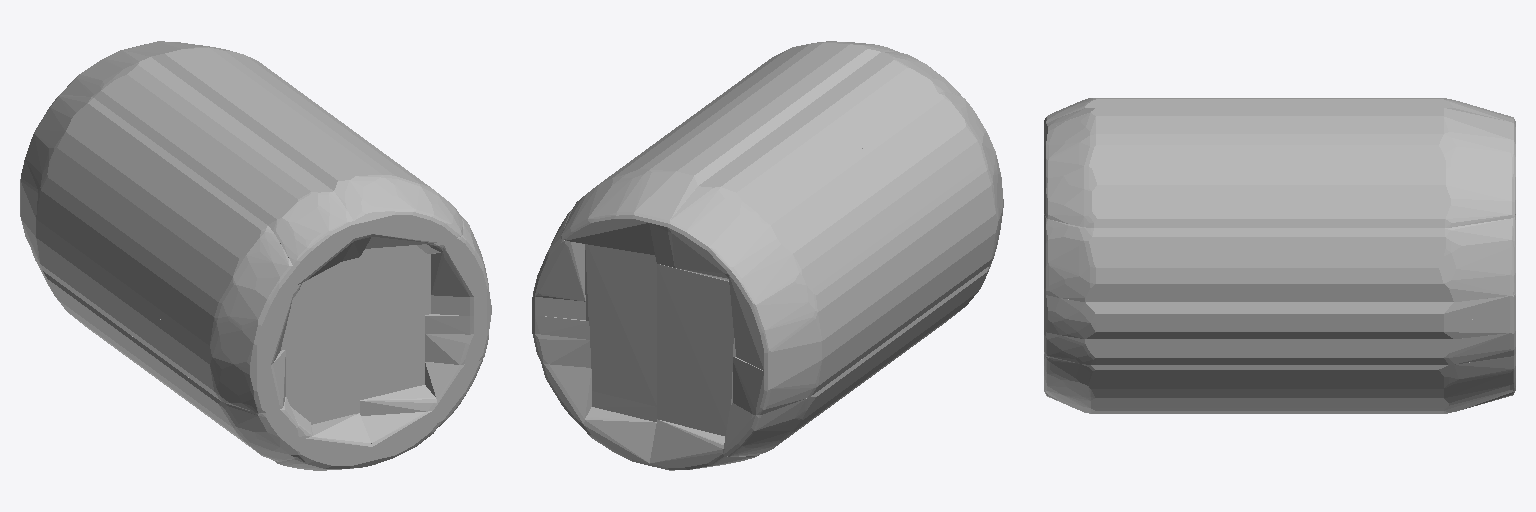
The robot description file, URDF, robot "root":
<robot name="root">
  <link name="link_coacd_convex_piece_0">
    <inertial>
      <origin xyz="0 0 0" rpy="0 0 0"/>
      <inertia ixx="4.62E-02" ixy="2.65E-04" ixz="-8.56E-03" iyy="2.66E-02" iyz="5.58E-04" izz="3.02E-02"/>
    </inertial>
    <visual>
      <origin xyz="0 0 0" rpy="0 0 0"/>
      <geometry>
        <mesh filename="coacd_convex_piece_0.obj" scale="1.0000E+00 1.0000E+00 1.0000E+00"/>
      </geometry>
      <material name="">
        <color rgba="7.50E-01 7.50E-01 7.50E-01 1"/>
      </material>
    </visual>
    <collision>
      <origin xyz="0 0 0" rpy="0 0 0"/>
      <geometry>
        <mesh filename="coacd_convex_piece_0.obj" scale="1.0000E+00 1.0000E+00 1.0000E+00"/>
      </geometry>
    </collision>
  </link>
  <link name="link_coacd_convex_piece_1">
    <inertial>
      <origin xyz="0 0 0" rpy="0 0 0"/>
      <inertia ixx="2.97E-02" ixy="-5.71E-04" ixz="8.37E-03" iyy="2.63E-02" iyz="2.71E-04" izz="4.57E-02"/>
    </inertial>
    <visual>
      <origin xyz="0 0 0" rpy="0 0 0"/>
      <geometry>
        <mesh filename="coacd_convex_piece_1.obj" scale="1.0000E+00 1.0000E+00 1.0000E+00"/>
      </geometry>
      <material name="">
        <color rgba="7.50E-01 7.50E-01 7.50E-01 1"/>
      </material>
    </visual>
    <collision>
      <origin xyz="0 0 0" rpy="0 0 0"/>
      <geometry>
        <mesh filename="coacd_convex_piece_1.obj" scale="1.0000E+00 1.0000E+00 1.0000E+00"/>
      </geometry>
    </collision>
  </link>
  <joint name="link_coacd_convex_piece_1_joint" type="fixed">
    <origin xyz="0 0 0" rpy="0 0 0"/>
    <parent link="link_coacd_convex_piece_0"/>
    <child link="link_coacd_convex_piece_1"/>
  </joint>
  <link name="link_coacd_convex_piece_2">
    <inertial>
      <origin xyz="0 0 0" rpy="0 0 0"/>
      <inertia ixx="2.36E-02" ixy="3.86E-04" ixz="8.38E-03" iyy="1.82E-02" iyz="-3.21E-04" izz="2.71E-02"/>
    </inertial>
    <visual>
      <origin xyz="0 0 0" rpy="0 0 0"/>
      <geometry>
        <mesh filename="coacd_convex_piece_2.obj" scale="1.0000E+00 1.0000E+00 1.0000E+00"/>
      </geometry>
      <material name="">
        <color rgba="7.50E-01 7.50E-01 7.50E-01 1"/>
      </material>
    </visual>
    <collision>
      <origin xyz="0 0 0" rpy="0 0 0"/>
      <geometry>
        <mesh filename="coacd_convex_piece_2.obj" scale="1.0000E+00 1.0000E+00 1.0000E+00"/>
      </geometry>
    </collision>
  </link>
  <joint name="link_coacd_convex_piece_2_joint" type="fixed">
    <origin xyz="0 0 0" rpy="0 0 0"/>
    <parent link="link_coacd_convex_piece_1"/>
    <child link="link_coacd_convex_piece_2"/>
  </joint>
  <link name="link_coacd_convex_piece_3">
    <inertial>
      <origin xyz="0 0 0" rpy="0 0 0"/>
      <inertia ixx="3.49E-02" ixy="1.19E-04" ixz="4.69E-03" iyy="1.85E-02" iyz="-4.12E-04" izz="2.01E-02"/>
    </inertial>
    <visual>
      <origin xyz="0 0 0" rpy="0 0 0"/>
      <geometry>
        <mesh filename="coacd_convex_piece_3.obj" scale="1.0000E+00 1.0000E+00 1.0000E+00"/>
      </geometry>
      <material name="">
        <color rgba="7.50E-01 7.50E-01 7.50E-01 1"/>
      </material>
    </visual>
    <collision>
      <origin xyz="0 0 0" rpy="0 0 0"/>
      <geometry>
        <mesh filename="coacd_convex_piece_3.obj" scale="1.0000E+00 1.0000E+00 1.0000E+00"/>
      </geometry>
    </collision>
  </link>
  <joint name="link_coacd_convex_piece_3_joint" type="fixed">
    <origin xyz="0 0 0" rpy="0 0 0"/>
    <parent link="link_coacd_convex_piece_2"/>
    <child link="link_coacd_convex_piece_3"/>
  </joint>
  <link name="link_coacd_convex_piece_4">
    <inertial>
      <origin xyz="0 0 0" rpy="0 0 0"/>
      <inertia ixx="3.99E-02" ixy="-1.57E-04" ixz="-5.91E-03" iyy="2.13E-02" iyz="-4.66E-04" izz="2.40E-02"/>
    </inertial>
    <visual>
      <origin xyz="0 0 0" rpy="0 0 0"/>
      <geometry>
        <mesh filename="coacd_convex_piece_4.obj" scale="1.0000E+00 1.0000E+00 1.0000E+00"/>
      </geometry>
      <material name="">
        <color rgba="7.50E-01 7.50E-01 7.50E-01 1"/>
      </material>
    </visual>
    <collision>
      <origin xyz="0 0 0" rpy="0 0 0"/>
      <geometry>
        <mesh filename="coacd_convex_piece_4.obj" scale="1.0000E+00 1.0000E+00 1.0000E+00"/>
      </geometry>
    </collision>
  </link>
  <joint name="link_coacd_convex_piece_4_joint" type="fixed">
    <origin xyz="0 0 0" rpy="0 0 0"/>
    <parent link="link_coacd_convex_piece_3"/>
    <child link="link_coacd_convex_piece_4"/>
  </joint>
  <link name="link_coacd_convex_piece_5">
    <inertial>
      <origin xyz="0 0 0" rpy="0 0 0"/>
      <inertia ixx="1.55E-02" ixy="-2.49E-04" ixz="-2.64E-03" iyy="1.38E-02" iyz="-4.44E-05" izz="2.78E-02"/>
    </inertial>
    <visual>
      <origin xyz="0 0 0" rpy="0 0 0"/>
      <geometry>
        <mesh filename="coacd_convex_piece_5.obj" scale="1.0000E+00 1.0000E+00 1.0000E+00"/>
      </geometry>
      <material name="">
        <color rgba="7.50E-01 7.50E-01 7.50E-01 1"/>
      </material>
    </visual>
    <collision>
      <origin xyz="0 0 0" rpy="0 0 0"/>
      <geometry>
        <mesh filename="coacd_convex_piece_5.obj" scale="1.0000E+00 1.0000E+00 1.0000E+00"/>
      </geometry>
    </collision>
  </link>
  <joint name="link_coacd_convex_piece_5_joint" type="fixed">
    <origin xyz="0 0 0" rpy="0 0 0"/>
    <parent link="link_coacd_convex_piece_4"/>
    <child link="link_coacd_convex_piece_5"/>
  </joint>
  <link name="link_coacd_convex_piece_6">
    <inertial>
      <origin xyz="0 0 0" rpy="0 0 0"/>
      <inertia ixx="1.82E-02" ixy="-4.05E-04" ixz="-6.83E-03" iyy="1.50E-02" iyz="-3.09E-04" izz="2.23E-02"/>
    </inertial>
    <visual>
      <origin xyz="0 0 0" rpy="0 0 0"/>
      <geometry>
        <mesh filename="coacd_convex_piece_6.obj" scale="1.0000E+00 1.0000E+00 1.0000E+00"/>
      </geometry>
      <material name="">
        <color rgba="7.50E-01 7.50E-01 7.50E-01 1"/>
      </material>
    </visual>
    <collision>
      <origin xyz="0 0 0" rpy="0 0 0"/>
      <geometry>
        <mesh filename="coacd_convex_piece_6.obj" scale="1.0000E+00 1.0000E+00 1.0000E+00"/>
      </geometry>
    </collision>
  </link>
  <joint name="link_coacd_convex_piece_6_joint" type="fixed">
    <origin xyz="0 0 0" rpy="0 0 0"/>
    <parent link="link_coacd_convex_piece_5"/>
    <child link="link_coacd_convex_piece_6"/>
  </joint>
  <link name="link_coacd_convex_piece_7">
    <inertial>
      <origin xyz="0 0 0" rpy="0 0 0"/>
      <inertia ixx="2.21E-02" ixy="3.49E-04" ixz="-6.59E-03" iyy="1.82E-02" iyz="1.61E-04" izz="3.33E-02"/>
    </inertial>
    <visual>
      <origin xyz="0 0 0" rpy="0 0 0"/>
      <geometry>
        <mesh filename="coacd_convex_piece_7.obj" scale="1.0000E+00 1.0000E+00 1.0000E+00"/>
      </geometry>
      <material name="">
        <color rgba="7.50E-01 7.50E-01 7.50E-01 1"/>
      </material>
    </visual>
    <collision>
      <origin xyz="0 0 0" rpy="0 0 0"/>
      <geometry>
        <mesh filename="coacd_convex_piece_7.obj" scale="1.0000E+00 1.0000E+00 1.0000E+00"/>
      </geometry>
    </collision>
  </link>
  <joint name="link_coacd_convex_piece_7_joint" type="fixed">
    <origin xyz="0 0 0" rpy="0 0 0"/>
    <parent link="link_coacd_convex_piece_6"/>
    <child link="link_coacd_convex_piece_7"/>
  </joint>
  <link name="link_coacd_convex_piece_8">
    <inertial>
      <origin xyz="0 0 0" rpy="0 0 0"/>
      <inertia ixx="6.35E-03" ixy="8.67E-05" ixz="-4.53E-04" iyy="5.63E-03" iyz="4.34E-06" izz="1.19E-02"/>
    </inertial>
    <visual>
      <origin xyz="0 0 0" rpy="0 0 0"/>
      <geometry>
        <mesh filename="coacd_convex_piece_8.obj" scale="1.0000E+00 1.0000E+00 1.0000E+00"/>
      </geometry>
      <material name="">
        <color rgba="7.50E-01 7.50E-01 7.50E-01 1"/>
      </material>
    </visual>
    <collision>
      <origin xyz="0 0 0" rpy="0 0 0"/>
      <geometry>
        <mesh filename="coacd_convex_piece_8.obj" scale="1.0000E+00 1.0000E+00 1.0000E+00"/>
      </geometry>
    </collision>
  </link>
  <joint name="link_coacd_convex_piece_8_joint" type="fixed">
    <origin xyz="0 0 0" rpy="0 0 0"/>
    <parent link="link_coacd_convex_piece_7"/>
    <child link="link_coacd_convex_piece_8"/>
  </joint>
  <link name="link_coacd_convex_piece_9">
    <inertial>
      <origin xyz="0 0 0" rpy="0 0 0"/>
      <inertia ixx="5.75E-02" ixy="-7.02E-04" ixz="-1.22E-03" iyy="1.47E-02" iyz="-1.50E-04" izz="5.70E-02"/>
    </inertial>
    <visual>
      <origin xyz="0 0 0" rpy="0 0 0"/>
      <geometry>
        <mesh filename="coacd_convex_piece_9.obj" scale="1.0000E+00 1.0000E+00 1.0000E+00"/>
      </geometry>
      <material name="">
        <color rgba="7.50E-01 7.50E-01 7.50E-01 1"/>
      </material>
    </visual>
    <collision>
      <origin xyz="0 0 0" rpy="0 0 0"/>
      <geometry>
        <mesh filename="coacd_convex_piece_9.obj" scale="1.0000E+00 1.0000E+00 1.0000E+00"/>
      </geometry>
    </collision>
  </link>
  <joint name="link_coacd_convex_piece_9_joint" type="fixed">
    <origin xyz="0 0 0" rpy="0 0 0"/>
    <parent link="link_coacd_convex_piece_8"/>
    <child link="link_coacd_convex_piece_9"/>
  </joint>
  <link name="link_coacd_convex_piece_10">
    <inertial>
      <origin xyz="0 0 0" rpy="0 0 0"/>
      <inertia ixx="1.78E-04" ixy="5.28E-05" ixz="-2.00E-05" iyy="4.05E-05" iyz="5.89E-05" izz="1.74E-04"/>
    </inertial>
    <visual>
      <origin xyz="0 0 0" rpy="0 0 0"/>
      <geometry>
        <mesh filename="coacd_convex_piece_10.obj" scale="1.0000E+00 1.0000E+00 1.0000E+00"/>
      </geometry>
      <material name="">
        <color rgba="7.50E-01 7.50E-01 7.50E-01 1"/>
      </material>
    </visual>
    <collision>
      <origin xyz="0 0 0" rpy="0 0 0"/>
      <geometry>
        <mesh filename="coacd_convex_piece_10.obj" scale="1.0000E+00 1.0000E+00 1.0000E+00"/>
      </geometry>
    </collision>
  </link>
  <joint name="link_coacd_convex_piece_10_joint" type="fixed">
    <origin xyz="0 0 0" rpy="0 0 0"/>
    <parent link="link_coacd_convex_piece_9"/>
    <child link="link_coacd_convex_piece_10"/>
  </joint>
  <link name="link_coacd_convex_piece_11">
    <inertial>
      <origin xyz="0 0 0" rpy="0 0 0"/>
      <inertia ixx="1.23E-02" ixy="-4.27E-06" ixz="4.61E-04" iyy="5.79E-03" iyz="8.83E-05" izz="6.58E-03"/>
    </inertial>
    <visual>
      <origin xyz="0 0 0" rpy="0 0 0"/>
      <geometry>
        <mesh filename="coacd_convex_piece_11.obj" scale="1.0000E+00 1.0000E+00 1.0000E+00"/>
      </geometry>
      <material name="">
        <color rgba="7.50E-01 7.50E-01 7.50E-01 1"/>
      </material>
    </visual>
    <collision>
      <origin xyz="0 0 0" rpy="0 0 0"/>
      <geometry>
        <mesh filename="coacd_convex_piece_11.obj" scale="1.0000E+00 1.0000E+00 1.0000E+00"/>
      </geometry>
    </collision>
  </link>
  <joint name="link_coacd_convex_piece_11_joint" type="fixed">
    <origin xyz="0 0 0" rpy="0 0 0"/>
    <parent link="link_coacd_convex_piece_10"/>
    <child link="link_coacd_convex_piece_11"/>
  </joint>
  <link name="link_coacd_convex_piece_12">
    <inertial>
      <origin xyz="0 0 0" rpy="0 0 0"/>
      <inertia ixx="3.39E-02" ixy="-1.68E-04" ixz="6.77E-03" iyy="1.86E-02" iyz="3.61E-04" izz="2.27E-02"/>
    </inertial>
    <visual>
      <origin xyz="0 0 0" rpy="0 0 0"/>
      <geometry>
        <mesh filename="coacd_convex_piece_12.obj" scale="1.0000E+00 1.0000E+00 1.0000E+00"/>
      </geometry>
      <material name="">
        <color rgba="7.50E-01 7.50E-01 7.50E-01 1"/>
      </material>
    </visual>
    <collision>
      <origin xyz="0 0 0" rpy="0 0 0"/>
      <geometry>
        <mesh filename="coacd_convex_piece_12.obj" scale="1.0000E+00 1.0000E+00 1.0000E+00"/>
      </geometry>
    </collision>
  </link>
  <joint name="link_coacd_convex_piece_12_joint" type="fixed">
    <origin xyz="0 0 0" rpy="0 0 0"/>
    <parent link="link_coacd_convex_piece_11"/>
    <child link="link_coacd_convex_piece_12"/>
  </joint>
  <link name="link_coacd_convex_piece_13">
    <inertial>
      <origin xyz="0 0 0" rpy="0 0 0"/>
      <inertia ixx="6.64E-02" ixy="9.11E-04" ixz="-3.84E-04" iyy="1.90E-02" iyz="7.42E-05" izz="6.73E-02"/>
    </inertial>
    <visual>
      <origin xyz="0 0 0" rpy="0 0 0"/>
      <geometry>
        <mesh filename="coacd_convex_piece_13.obj" scale="1.0000E+00 1.0000E+00 1.0000E+00"/>
      </geometry>
      <material name="">
        <color rgba="7.50E-01 7.50E-01 7.50E-01 1"/>
      </material>
    </visual>
    <collision>
      <origin xyz="0 0 0" rpy="0 0 0"/>
      <geometry>
        <mesh filename="coacd_convex_piece_13.obj" scale="1.0000E+00 1.0000E+00 1.0000E+00"/>
      </geometry>
    </collision>
  </link>
  <joint name="link_coacd_convex_piece_13_joint" type="fixed">
    <origin xyz="0 0 0" rpy="0 0 0"/>
    <parent link="link_coacd_convex_piece_12"/>
    <child link="link_coacd_convex_piece_13"/>
  </joint>
  <link name="link_coacd_convex_piece_14">
    <inertial>
      <origin xyz="0 0 0" rpy="0 0 0"/>
      <inertia ixx="1.45E-04" ixy="-5.02E-05" ixz="1.70E-05" iyy="3.44E-05" iyz="4.42E-05" izz="1.50E-04"/>
    </inertial>
    <visual>
      <origin xyz="0 0 0" rpy="0 0 0"/>
      <geometry>
        <mesh filename="coacd_convex_piece_14.obj" scale="1.0000E+00 1.0000E+00 1.0000E+00"/>
      </geometry>
      <material name="">
        <color rgba="7.50E-01 7.50E-01 7.50E-01 1"/>
      </material>
    </visual>
    <collision>
      <origin xyz="0 0 0" rpy="0 0 0"/>
      <geometry>
        <mesh filename="coacd_convex_piece_14.obj" scale="1.0000E+00 1.0000E+00 1.0000E+00"/>
      </geometry>
    </collision>
  </link>
  <joint name="link_coacd_convex_piece_14_joint" type="fixed">
    <origin xyz="0 0 0" rpy="0 0 0"/>
    <parent link="link_coacd_convex_piece_13"/>
    <child link="link_coacd_convex_piece_14"/>
  </joint>
  <link name="link_coacd_convex_piece_15">
    <inertial>
      <origin xyz="0 0 0" rpy="0 0 0"/>
      <inertia ixx="6.86E-03" ixy="7.80E-05" ixz="4.83E-04" iyy="5.77E-03" iyz="-3.39E-06" izz="1.25E-02"/>
    </inertial>
    <visual>
      <origin xyz="0 0 0" rpy="0 0 0"/>
      <geometry>
        <mesh filename="coacd_convex_piece_15.obj" scale="1.0000E+00 1.0000E+00 1.0000E+00"/>
      </geometry>
      <material name="">
        <color rgba="7.50E-01 7.50E-01 7.50E-01 1"/>
      </material>
    </visual>
    <collision>
      <origin xyz="0 0 0" rpy="0 0 0"/>
      <geometry>
        <mesh filename="coacd_convex_piece_15.obj" scale="1.0000E+00 1.0000E+00 1.0000E+00"/>
      </geometry>
    </collision>
  </link>
  <joint name="link_coacd_convex_piece_15_joint" type="fixed">
    <origin xyz="0 0 0" rpy="0 0 0"/>
    <parent link="link_coacd_convex_piece_14"/>
    <child link="link_coacd_convex_piece_15"/>
  </joint>
  <link name="link_coacd_convex_piece_16">
    <inertial>
      <origin xyz="0 0 0" rpy="0 0 0"/>
      <inertia ixx="1.06E-02" ixy="1.22E-04" ixz="2.38E-03" iyy="8.65E-03" iyz="-2.86E-05" izz="1.77E-02"/>
    </inertial>
    <visual>
      <origin xyz="0 0 0" rpy="0 0 0"/>
      <geometry>
        <mesh filename="coacd_convex_piece_16.obj" scale="1.0000E+00 1.0000E+00 1.0000E+00"/>
      </geometry>
      <material name="">
        <color rgba="7.50E-01 7.50E-01 7.50E-01 1"/>
      </material>
    </visual>
    <collision>
      <origin xyz="0 0 0" rpy="0 0 0"/>
      <geometry>
        <mesh filename="coacd_convex_piece_16.obj" scale="1.0000E+00 1.0000E+00 1.0000E+00"/>
      </geometry>
    </collision>
  </link>
  <joint name="link_coacd_convex_piece_16_joint" type="fixed">
    <origin xyz="0 0 0" rpy="0 0 0"/>
    <parent link="link_coacd_convex_piece_15"/>
    <child link="link_coacd_convex_piece_16"/>
  </joint>
  <link name="link_coacd_convex_piece_17">
    <inertial>
      <origin xyz="0 0 0" rpy="0 0 0"/>
      <inertia ixx="2.27E-04" ixy="-6.95E-05" ixz="-2.58E-05" iyy="5.21E-05" iyz="-7.40E-05" izz="2.24E-04"/>
    </inertial>
    <visual>
      <origin xyz="0 0 0" rpy="0 0 0"/>
      <geometry>
        <mesh filename="coacd_convex_piece_17.obj" scale="1.0000E+00 1.0000E+00 1.0000E+00"/>
      </geometry>
      <material name="">
        <color rgba="7.50E-01 7.50E-01 7.50E-01 1"/>
      </material>
    </visual>
    <collision>
      <origin xyz="0 0 0" rpy="0 0 0"/>
      <geometry>
        <mesh filename="coacd_convex_piece_17.obj" scale="1.0000E+00 1.0000E+00 1.0000E+00"/>
      </geometry>
    </collision>
  </link>
  <joint name="link_coacd_convex_piece_17_joint" type="fixed">
    <origin xyz="0 0 0" rpy="0 0 0"/>
    <parent link="link_coacd_convex_piece_16"/>
    <child link="link_coacd_convex_piece_17"/>
  </joint>
  <link name="link_coacd_convex_piece_18">
    <inertial>
      <origin xyz="0 0 0" rpy="0 0 0"/>
      <inertia ixx="7.57E-03" ixy="2.99E-05" ixz="1.04E-03" iyy="2.96E-03" iyz="-2.26E-05" izz="5.84E-03"/>
    </inertial>
    <visual>
      <origin xyz="0 0 0" rpy="0 0 0"/>
      <geometry>
        <mesh filename="coacd_convex_piece_18.obj" scale="1.0000E+00 1.0000E+00 1.0000E+00"/>
      </geometry>
      <material name="">
        <color rgba="7.50E-01 7.50E-01 7.50E-01 1"/>
      </material>
    </visual>
    <collision>
      <origin xyz="0 0 0" rpy="0 0 0"/>
      <geometry>
        <mesh filename="coacd_convex_piece_18.obj" scale="1.0000E+00 1.0000E+00 1.0000E+00"/>
      </geometry>
    </collision>
  </link>
  <joint name="link_coacd_convex_piece_18_joint" type="fixed">
    <origin xyz="0 0 0" rpy="0 0 0"/>
    <parent link="link_coacd_convex_piece_17"/>
    <child link="link_coacd_convex_piece_18"/>
  </joint>
</robot>

--- Facts derived from the render (not from the file) ---
Views: 3 orthographic renders of the robot side by side, from view 1: azimuth 30°, elevation 25°; view 2: azimuth 150°, elevation 25°; view 3: azimuth 270°, elevation 25°.
Robot: root — 19 links, 18 joints (18 fixed); root link link_coacd_convex_piece_0; default pose: all joints at 0.
Links seen in each view (by area): view 1: link_coacd_convex_piece_1, link_coacd_convex_piece_12, link_coacd_convex_piece_0, link_coacd_convex_piece_13, link_coacd_convex_piece_5, link_coacd_convex_piece_9, link_coacd_convex_piece_6, link_coacd_convex_piece_11, link_coacd_convex_piece_4, link_coacd_convex_piece_7, link_coacd_convex_piece_3, link_coacd_convex_piece_2 (+4 smaller); view 2: link_coacd_convex_piece_1, link_coacd_convex_piece_12, link_coacd_convex_piece_0, link_coacd_convex_piece_13, link_coacd_convex_piece_5, link_coacd_convex_piece_9, link_coacd_convex_piece_6, link_coacd_convex_piece_11, link_coacd_convex_piece_4, link_coacd_convex_piece_7, link_coacd_convex_piece_3, link_coacd_convex_piece_2 (+4 smaller); view 3: link_coacd_convex_piece_0, link_coacd_convex_piece_7, link_coacd_convex_piece_2, link_coacd_convex_piece_16, link_coacd_convex_piece_8, link_coacd_convex_piece_15, link_coacd_convex_piece_12, link_coacd_convex_piece_11.
Boxes of the visible links, x1,y1,x2,y2 form: link_coacd_convex_piece_1: (20, 95, 292, 368); link_coacd_convex_piece_12: (60, 50, 354, 285); link_coacd_convex_piece_0: (140, 41, 462, 248); link_coacd_convex_piece_13: (281, 257, 359, 424); link_coacd_convex_piece_5: (20, 198, 285, 413); link_coacd_convex_piece_9: (360, 245, 430, 399); link_coacd_convex_piece_6: (31, 249, 298, 461); link_coacd_convex_piece_11: (124, 46, 372, 261); link_coacd_convex_piece_4: (273, 413, 371, 470); link_coacd_convex_piece_7: (431, 215, 488, 296); link_coacd_convex_piece_3: (361, 410, 437, 465); link_coacd_convex_piece_2: (425, 360, 482, 427); link_coacd_convex_piece_1: (729, 92, 1003, 370); link_coacd_convex_piece_12: (667, 52, 961, 280); link_coacd_convex_piece_0: (561, 41, 874, 254); link_coacd_convex_piece_13: (657, 264, 735, 435); link_coacd_convex_piece_5: (733, 202, 1003, 414); link_coacd_convex_piece_9: (585, 244, 656, 406); link_coacd_convex_piece_6: (723, 263, 991, 456); link_coacd_convex_piece_11: (649, 45, 899, 267); link_coacd_convex_piece_4: (650, 419, 758, 470); link_coacd_convex_piece_7: (533, 210, 585, 301); link_coacd_convex_piece_3: (584, 407, 656, 465); link_coacd_convex_piece_2: (541, 363, 591, 429); link_coacd_convex_piece_0: (1044, 112, 1515, 227); link_coacd_convex_piece_7: (1044, 215, 1515, 301); link_coacd_convex_piece_2: (1044, 354, 1515, 413); link_coacd_convex_piece_16: (1044, 331, 1515, 364); link_coacd_convex_piece_8: (1044, 294, 1515, 322); link_coacd_convex_piece_15: (1044, 312, 1515, 338); link_coacd_convex_piece_12: (1044, 98, 1515, 126); link_coacd_convex_piece_11: (1044, 108, 1515, 135).
Bounding box of the posed robot: 1.14 × 1.69 × 1.14 m (x, y, z).
19 mesh visuals loaded from 19 distinct referenced files (19 OBJ).
